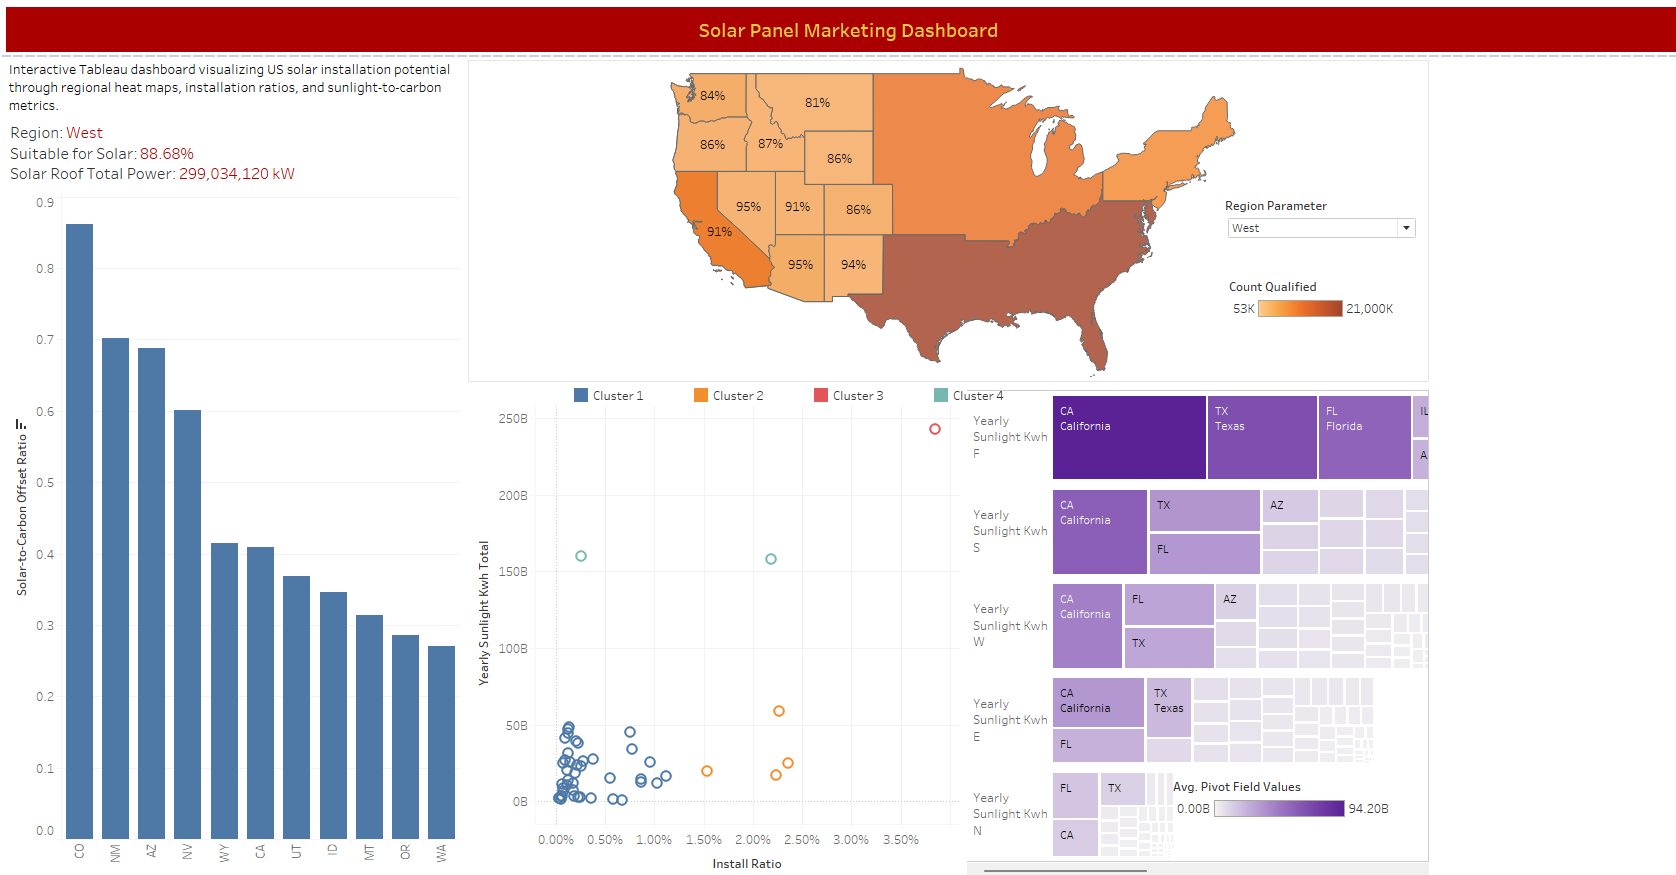

The page's visual inventory and layout, read from the dashboard file:
{"tool":"tableau","page":{"name":"Solar Panel Marketing Dashboard","canvas":[1000,1000],"units":"permille","ordinal":0},"visuals":[{"type":"text","box":[4.7,8.9,990.6,59.1]},{"type":"text","box":[4.7,68.1,270.3,69.2]},{"type":"worksheet","title":"Map","mark":"Multipolygon","box":[275,68.1,567,368.3]},{"type":"worksheet","title":"Banner","mark":"Automatic","box":[4.7,137.3,270.3,79.2]},{"type":"worksheet","title":"Solar-to-Carbon Offset Ratio","mark":"Automatic","rows":["Calculation_2271503084948234246"],"cols":["Calculation_2271503084944199683"],"box":[4.7,216.5,270.3,774.6]},{"type":"parameter","param":"[Parameters].[Parameter 1]","box":[720.3,225.5,113.5,49.1]},{"type":"legend","title":"Map","param":"[federated.0a5vver1d14klj0ztkctt16qyowr].[sum:count_qualified:qk]","box":[722.6,315.9,98.9,84.8]},{"type":"legend","title":"Scatter Plot","param":"[federated.0a5vver1d14klj0ztkctt16qyowr].[none:AdhocCluster:1:ok]","box":[337.4,417.4,350.1,61.4]},{"type":"worksheet","title":"Scatter Plot","mark":"Automatic","rows":["yearly_sunlight_kwh_total"],"cols":["Calculation_2271503084949016583"],"box":[275,436.4,292,554.7]},{"type":"worksheet","title":"Solar Energy Potential by Roof Orientation and State (kWh/year)","mark":"Automatic","rows":["Pivot Field Names"],"box":[567,436.4,275,554.7]},{"type":"legend","title":"Solar Energy Potential by Roof Orientation and State (kWh/year)","param":"[federated.1xlkvxe0a5m3dl11c2gmw1ht4evq].[avg:Pivot Field Values:qk]","box":[689.9,873.9,129.3,82.6]}]}

Visuals, with their boxes on the dashboard's canvas, which has no fixed pixel size, in thousandths of its width and height (x1, y1, x2, y2). These are canvas units, not pixel positions in the 1676x875 screenshot, which may show the page scaled, cropped or inside an application window:
text: 5 9 995 68
text: 5 68 275 137
"Map" worksheet (Multipolygon marks): 275 68 842 436
"Banner" worksheet: 5 137 275 216
"Solar-to-Carbon Offset Ratio" worksheet: 5 216 275 991
parameter: 720 226 834 275
"Map" legend: 723 316 822 401
"Scatter Plot" legend: 337 417 688 479
"Scatter Plot" worksheet: 275 436 567 991
"Solar Energy Potential by Roof Orientation and State (kWh/year)" worksheet: 567 436 842 991
"Solar Energy Potential by Roof Orientation and State (kWh/year)" legend: 690 874 819 956
